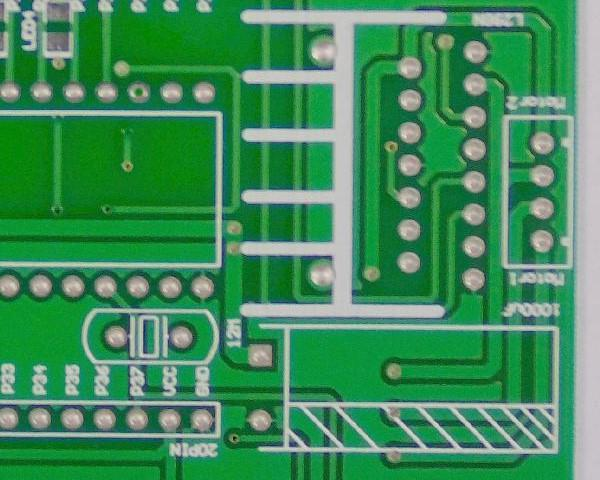missing hole: (125, 78, 154, 105)
